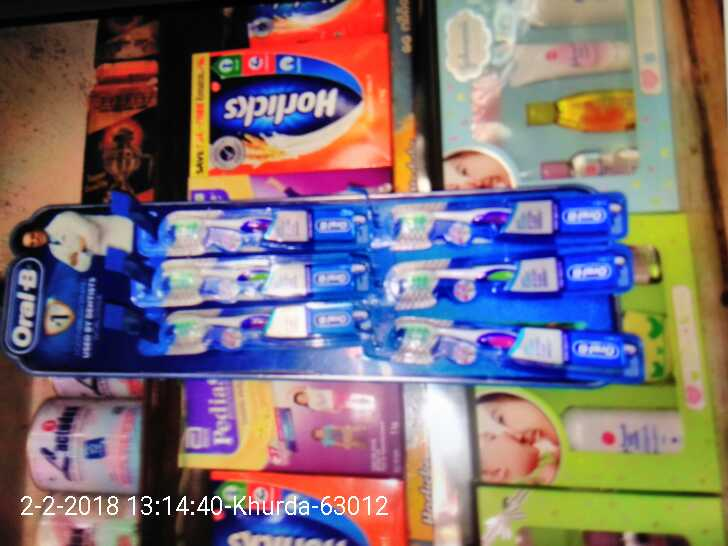oralb: (371, 312, 573, 372), (127, 254, 361, 303), (127, 306, 366, 350), (373, 255, 566, 306), (384, 196, 565, 244), (128, 208, 317, 251)
